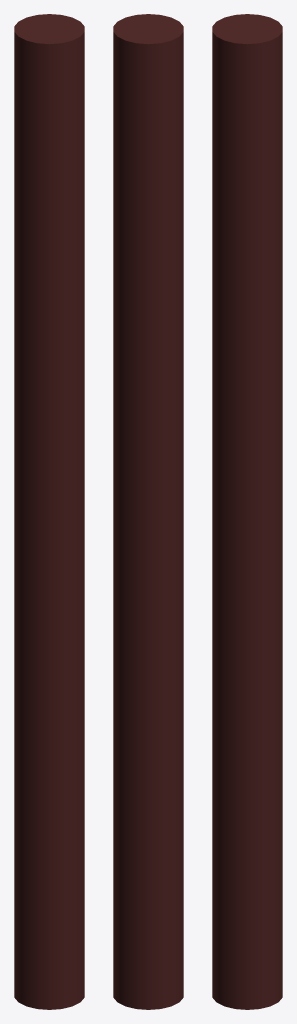
File: Vertical_Beam_small.FBX
3 renders of one model, left to right at view 1: azimuth 90°, elevation 25°; view 2: azimuth 210°, elevation 25°; view 3: azimuth 270°, elevation 25°, orthographic.
Parts seen in each view (by area): view 1: Beam_Vertical_small; view 2: Beam_Vertical_small; view 3: Beam_Vertical_small.
Boxes of the visible parts, <box> form: Beam_Vertical_small: <box>14,14,84,1009</box>; Beam_Vertical_small: <box>113,14,183,1009</box>; Beam_Vertical_small: <box>212,14,282,1009</box>.
Size of the model in its own units: 8.05 by 120 by 7.93.
